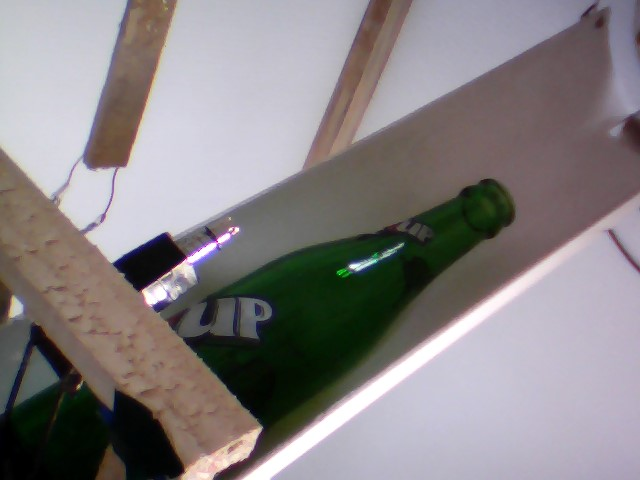vidrio: (172, 168, 532, 427)
